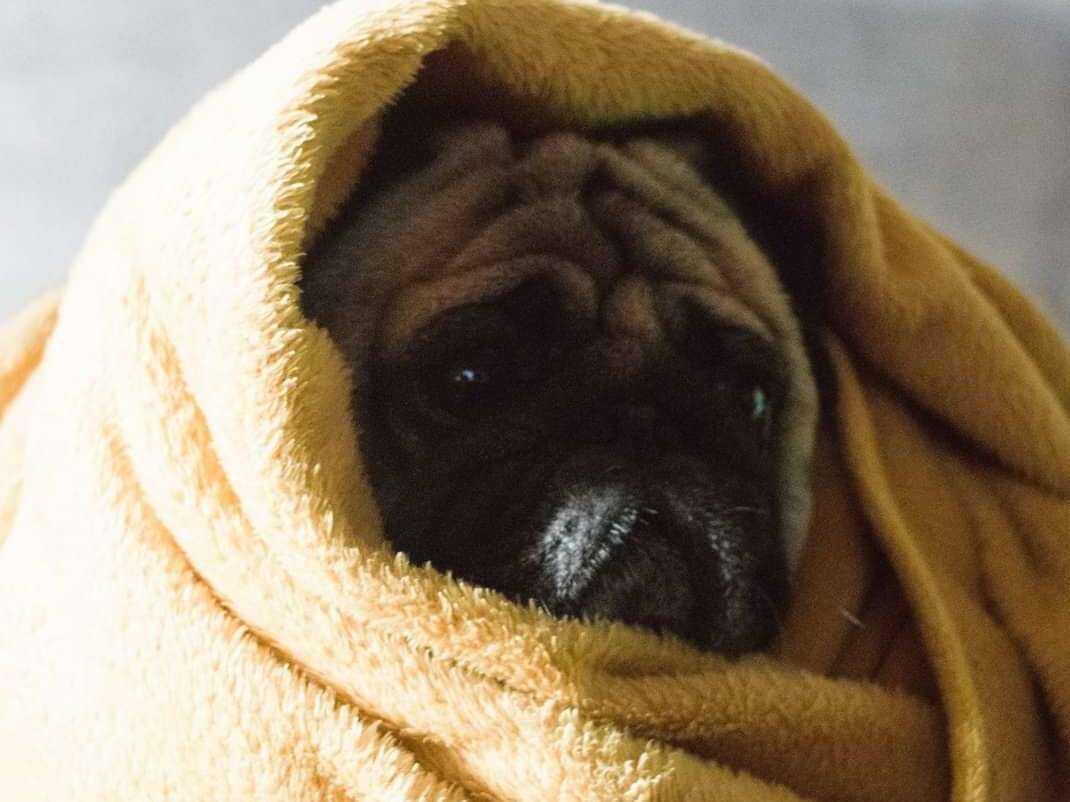pet: (396, 128, 795, 619)
